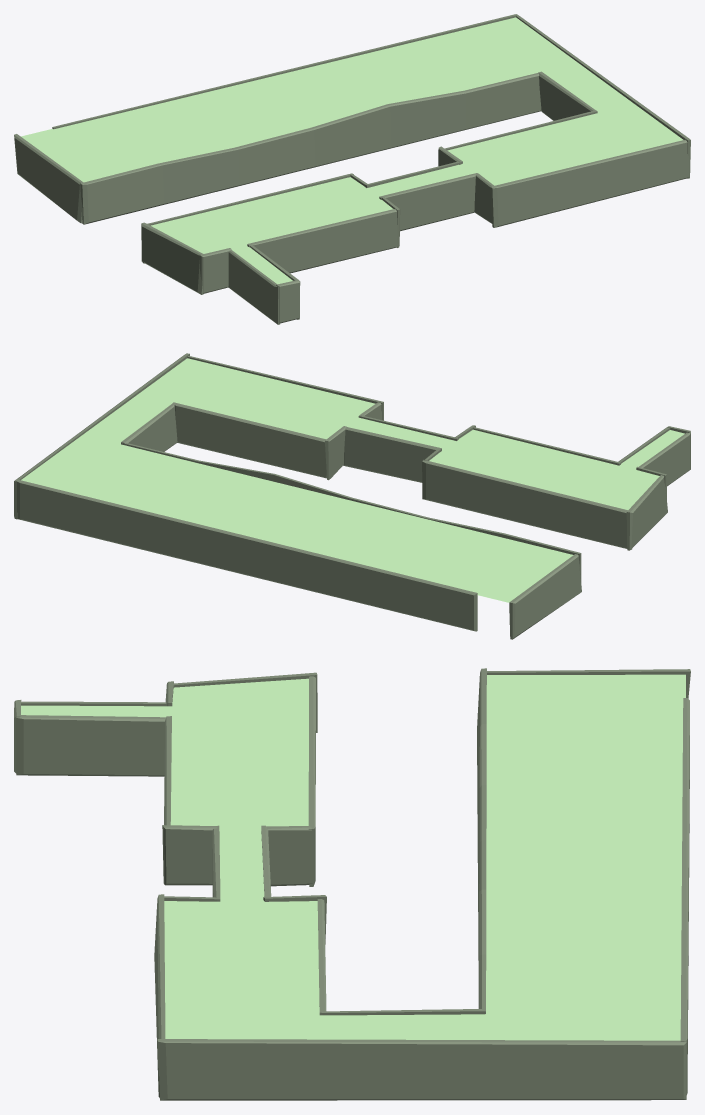
File: GenbuStage2.fbx
3 renders of one model, top to bottom at view 1: azimuth 30°, elevation 25°; view 2: azimuth 150°, elevation 25°; view 3: azimuth 270°, elevation 25°, orthographic. The views are drawn at different scales.
Parts seen in each view (by area): view 1: Cube.049, Plane.001; view 2: Plane.001, Cube.049; view 3: Plane.001, Cube.049.
Part boxes in pixels (bbox=[...]): Cube.049: bbox=[14, 14, 690, 324]; Plane.001: bbox=[21, 17, 683, 284]; Plane.001: bbox=[21, 358, 684, 602]; Cube.049: bbox=[14, 353, 690, 639]; Plane.001: bbox=[21, 674, 685, 1040]; Cube.049: bbox=[14, 668, 690, 1100].
Size of the model in its own units: 57.85 by 4.82 by 44.02.
